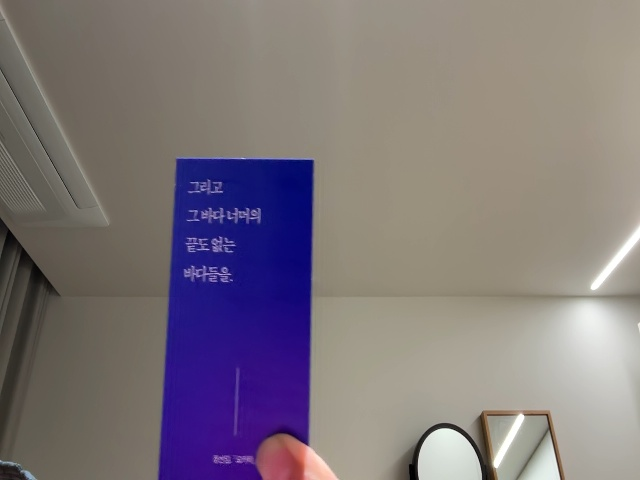card: (162, 159, 316, 480)
